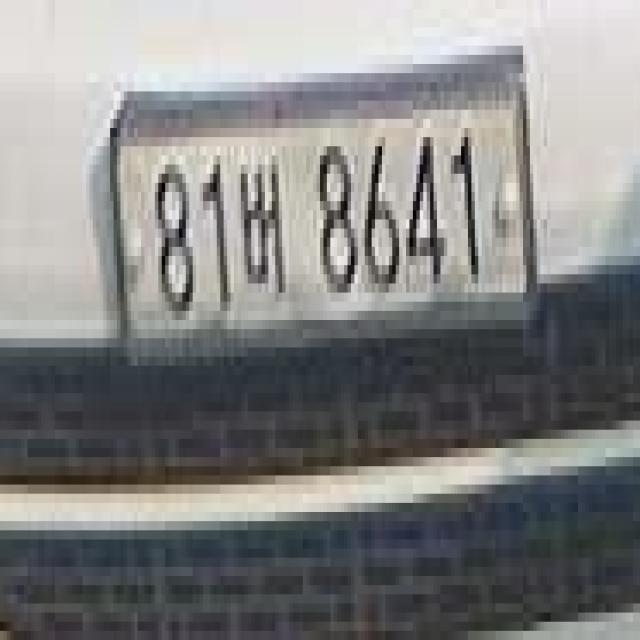plat: (108, 61, 535, 362)
